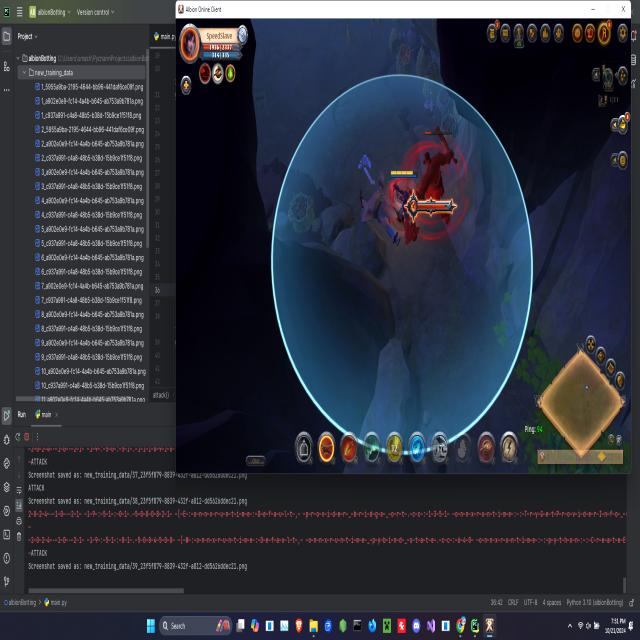ore: (400, 124, 467, 234)
red: (388, 166, 422, 233)
